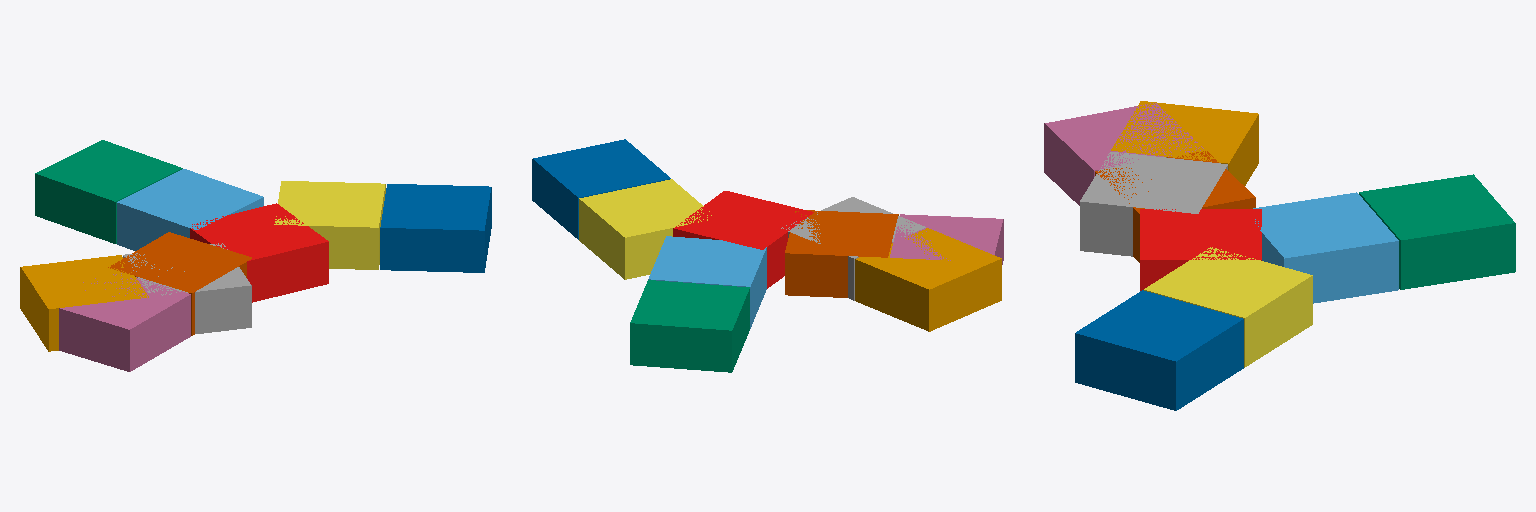
robot.urdf — Model_Models/Model_186.urdf1:
<?xml version='1.0' encoding='UTF-8'?>
<robot name="Model_Models/Model_186.urdf1">
  <link name="base_link">
    <inertial>
      <origin xyz="0.0 0.0 0.0" rpy="0.0 -0.0 0.0"/>
      <mass value="1.0"/>
      <inertia ixx="1.0" ixy="0.0" ixz="0.0" iyy="1.0" iyz="0.0" izz="1.0"/>
    </inertial>
    <visual>
      <geometry>
        <box size="0.67 0.67 0.3 "/>
      </geometry>
      <material name="red"/>
      <origin xyz="0.0 0.0 0.0" rpy="0.0 -0.0 0.0"/>
    </visual>
    <collision>
      <geometry>
        <box size="0.67 0.67 0.3 "/>
      </geometry>
      <origin xyz="0.0 0.0 0.0" rpy="0.0 0.0 0.0"/>
    </collision>
  </link>
  <link name="arm_0_arm1">
    <inertial>
      <origin xyz="0.0 0.34 0.0" rpy="0.0 0.0 0.0"/>
      <mass value="1.0"/>
      <inertia ixx="0.0" ixy="0.0" ixz="0.0" iyy="0.0" iyz="0.0" izz="0.0"/>
    </inertial>
    <visual>
      <geometry>
        <box size="0.67 0.67 0.3 "/>
      </geometry>
      <origin xyz="0.0 0.34 0.0" rpy="0.0 0.0 0.0"/>
    </visual>
    <collision>
      <geometry>
        <box size="0.67 0.67 0.3 "/>
      </geometry>
      <origin xyz="0.0 0.34 0.0" rpy="0.0 0.0 0.0"/>
    </collision>
  </link>
  <link name="arm_0_arm2">
    <inertial>
      <origin xyz="0.0 0.34 0.0" rpy="0.0 0.0 0.0"/>
      <mass value="1.0"/>
      <inertia ixx="0.0" ixy="0.0" ixz="0.0" iyy="0.0" iyz="0.0" izz="0.0"/>
    </inertial>
    <visual>
      <geometry>
        <box size="0.67 0.67 0.3 "/>
      </geometry>
      <origin xyz="0.0 0.34 0.0" rpy="0.0 0.0 0.0"/>
    </visual>
    <collision>
      <geometry>
        <box size="0.67 0.67 0.3 "/>
      </geometry>
      <origin xyz="0.0 0.34 0.0" rpy="0.0 0.0 0.0"/>
    </collision>
  </link>
  <link name="arm_2_arm1">
    <inertial>
      <origin xyz="0.0 0.34 0.0" rpy="0.0 0.0 0.0"/>
      <mass value="1.0"/>
      <inertia ixx="0.0" ixy="0.0" ixz="0.0" iyy="0.0" iyz="0.0" izz="0.0"/>
    </inertial>
    <visual>
      <geometry>
        <box size="0.67 0.67 0.3 "/>
      </geometry>
      <origin xyz="0.0 0.34 0.0" rpy="0.0 0.0 0.0"/>
    </visual>
    <collision>
      <geometry>
        <box size="0.67 0.67 0.3 "/>
      </geometry>
      <origin xyz="0.0 0.34 0.0" rpy="0.0 0.0 0.0"/>
    </collision>
  </link>
  <link name="arm_2_arm2">
    <inertial>
      <origin xyz="0.0 0.34 0.0" rpy="0.0 0.0 0.0"/>
      <mass value="1.0"/>
      <inertia ixx="0.0" ixy="0.0" ixz="0.0" iyy="0.0" iyz="0.0" izz="0.0"/>
    </inertial>
    <visual>
      <geometry>
        <box size="0.67 0.67 0.3 "/>
      </geometry>
      <origin xyz="0.0 0.34 0.0" rpy="0.0 0.0 0.0"/>
    </visual>
    <collision>
      <geometry>
        <box size="0.67 0.67 0.3 "/>
      </geometry>
      <origin xyz="0.0 0.34 0.0" rpy="0.0 0.0 0.0"/>
    </collision>
  </link>
  <link name="arm_3_arm1">
    <inertial>
      <origin xyz="0.0 0.34 0.0" rpy="0.0 0.0 0.0"/>
      <mass value="1.0"/>
      <inertia ixx="0.0" ixy="0.0" ixz="0.0" iyy="0.0" iyz="0.0" izz="0.0"/>
    </inertial>
    <visual>
      <geometry>
        <box size="0.67 0.67 0.3 "/>
      </geometry>
      <origin xyz="0.0 0.34 0.0" rpy="0.0 0.0 0.0"/>
    </visual>
    <collision>
      <geometry>
        <box size="0.67 0.67 0.3 "/>
      </geometry>
      <origin xyz="0.0 0.34 0.0" rpy="0.0 0.0 0.0"/>
    </collision>
  </link>
  <link name="arm_3_arm2">
    <inertial>
      <origin xyz="0.0 0.34 0.0" rpy="0.0 0.0 0.0"/>
      <mass value="1.0"/>
      <inertia ixx="0.0" ixy="0.0" ixz="0.0" iyy="0.0" iyz="0.0" izz="0.0"/>
    </inertial>
    <visual>
      <geometry>
        <box size="0.67 0.67 0.3 "/>
      </geometry>
      <origin xyz="0.0 0.34 0.0" rpy="0.0 0.0 0.0"/>
    </visual>
    <collision>
      <geometry>
        <box size="0.67 0.67 0.3 "/>
      </geometry>
      <origin xyz="0.0 0.34 0.0" rpy="0.0 0.0 0.0"/>
    </collision>
  </link>
  <link name="arm_Permutation_1_arm1">
    <inertial>
      <origin xyz="0.0 0.34 0.0" rpy="0.0 0.0 0.0"/>
      <mass value="1.0"/>
      <inertia ixx="0.0" ixy="0.0" ixz="0.0" iyy="0.0" iyz="0.0" izz="0.0"/>
    </inertial>
    <visual>
      <geometry>
        <box size="0.67 0.67 0.3 "/>
      </geometry>
      <origin xyz="0.0 0.34 0.0" rpy="0.0 0.0 0.0"/>
    </visual>
    <collision>
      <geometry>
        <box size="0.67 0.67 0.3 "/>
      </geometry>
      <origin xyz="0.0 0.34 0.0" rpy="0.0 0.0 0.0"/>
    </collision>
  </link>
  <link name="arm_Permutation_1_arm2">
    <inertial>
      <origin xyz="0.0 0.34 0.0" rpy="0.0 0.0 0.0"/>
      <mass value="1.0"/>
      <inertia ixx="0.0" ixy="0.0" ixz="0.0" iyy="0.0" iyz="0.0" izz="0.0"/>
    </inertial>
    <visual>
      <geometry>
        <box size="0.67 0.67 0.3 "/>
      </geometry>
      <origin xyz="0.0 0.34 0.0" rpy="0.0 0.0 0.0"/>
    </visual>
    <collision>
      <geometry>
        <box size="0.67 0.67 0.3 "/>
      </geometry>
      <origin xyz="0.0 0.34 0.0" rpy="0.0 0.0 0.0"/>
    </collision>
  </link>
  <joint name="arm_0_jointBase" type="fixed">
    <limit effort="1.57" velocity="1.57" lower="-1.57" upper="1.57"/>
    <parent link="base_link"/>
    <child link="arm_0_arm1"/>
    <axis xyz="1. 0. 0."/>
    <origin xyz="0.0 0.34 0.0" rpy="0.0 0.0 0.35"/>
  </joint>
  <joint name="arm_0_joint1" type="revolute">
    <limit effort="1.57" velocity="1.57" lower="-1.57" upper="1.57"/>
    <parent link="arm_0_arm1"/>
    <child link="arm_0_arm2"/>
    <axis xyz="1. 0. 0."/>
    <origin xyz="0.0 0.68 0.0" rpy="0.0 0.0 0.0"/>
  </joint>
  <joint name="arm_2_jointBase" type="fixed">
    <limit effort="1.57" velocity="1.57" lower="-1.57" upper="1.57"/>
    <parent link="base_link"/>
    <child link="arm_2_arm1"/>
    <axis xyz="1. 0. 0."/>
    <origin xyz="0.34 0.34 0.0" rpy="0.0 0.0 -2.16"/>
  </joint>
  <joint name="arm_2_joint1" type="revolute">
    <limit effort="1.57" velocity="1.57" lower="-1.57" upper="1.57"/>
    <parent link="arm_2_arm1"/>
    <child link="arm_2_arm2"/>
    <axis xyz="1. 0. 0."/>
    <origin xyz="0.0 0.68 0.0" rpy="0.0 0.0 0.0"/>
  </joint>
  <joint name="arm_3_jointBase" type="fixed">
    <limit effort="1.57" velocity="1.57" lower="-1.57" upper="1.57"/>
    <parent link="base_link"/>
    <child link="arm_3_arm1"/>
    <axis xyz="1. 0. 0."/>
    <origin xyz="-0.34 0.0 0.0" rpy="0.0 0.0 1.99"/>
  </joint>
  <joint name="arm_3_joint1" type="revolute">
    <limit effort="1.57" velocity="1.57" lower="-1.57" upper="1.57"/>
    <parent link="arm_3_arm1"/>
    <child link="arm_3_arm2"/>
    <axis xyz="1. 0. 0."/>
    <origin xyz="0.0 0.68 0.0" rpy="0.0 0.0 0.0"/>
  </joint>
  <joint name="arm_Permutation_1_jointBase" type="fixed">
    <limit effort="1.57" velocity="1.57" lower="-1.57" upper="1.57"/>
    <parent link="base_link"/>
    <child link="arm_Permutation_1_arm1"/>
    <axis xyz="1. 0. 0."/>
    <origin xyz="-0.34 -0.34 0.0" rpy="0.0 0.0 1.32"/>
  </joint>
  <joint name="arm_Permutation_1_joint1" type="revolute">
    <limit effort="1.57" velocity="1.57" lower="-1.57" upper="1.57"/>
    <parent link="arm_Permutation_1_arm1"/>
    <child link="arm_Permutation_1_arm2"/>
    <axis xyz="1. 0. 0."/>
    <origin xyz="0.0 0.68 0.0" rpy="0.0 0.0 0.0"/>
  </joint>
  <material name="red">
    <color rgba="0.969 0.129 0.122 1.   "/>
  </material>
</robot>

--- Facts derived from the render (not from the file) ---
The picture shows the robot from 3 angles, left to right: view 1: azimuth 30°, elevation 25°; view 2: azimuth 150°, elevation 25°; view 3: azimuth 270°, elevation 25°; orthographic projection.
Robot: Model_Models/Model_186.urdf1 — 9 links, 8 joints (4 revolute, 4 fixed); root link base_link; default pose: all joints at 0.
Visible links, largest first — view 1: arm_2_arm2, arm_0_arm2, arm_3_arm2, base_link, arm_2_arm1, arm_0_arm1, arm_Permutation_1_arm2, arm_3_arm1, arm_Permutation_1_arm1; view 2: arm_Permutation_1_arm2, arm_0_arm2, arm_2_arm1, arm_3_arm1, arm_2_arm2, base_link, arm_0_arm1, arm_3_arm2, arm_Permutation_1_arm1; view 3: arm_2_arm2, arm_0_arm2, arm_0_arm1, arm_2_arm1, arm_Permutation_1_arm1, base_link, arm_Permutation_1_arm2, arm_3_arm2, arm_3_arm1.
Link boxes in pixels (x1,y1,x2,y2): arm_2_arm2: [380, 184, 491, 272]; arm_0_arm2: [35, 140, 182, 243]; arm_3_arm2: [59, 273, 190, 371]; base_link: [190, 203, 328, 302]; arm_2_arm1: [274, 181, 385, 269]; arm_0_arm1: [117, 169, 263, 250]; arm_Permutation_1_arm2: [20, 255, 148, 351]; arm_3_arm1: [108, 232, 251, 335]; arm_Permutation_1_arm1: [123, 243, 251, 333]; arm_Permutation_1_arm2: [855, 228, 1001, 331]; arm_0_arm2: [630, 280, 749, 372]; arm_2_arm1: [579, 179, 711, 279]; arm_3_arm1: [785, 210, 898, 297]; arm_2_arm2: [532, 139, 670, 239]; base_link: [673, 191, 813, 288]; arm_0_arm1: [648, 236, 766, 328]; arm_3_arm2: [890, 214, 1003, 264]; arm_Permutation_1_arm1: [781, 197, 925, 300]; arm_2_arm2: [1075, 290, 1243, 410]; arm_0_arm2: [1359, 174, 1515, 289]; arm_0_arm1: [1253, 192, 1398, 303]; arm_2_arm1: [1144, 247, 1312, 367]; arm_Permutation_1_arm1: [1080, 152, 1227, 256]; base_link: [1140, 209, 1261, 290]; arm_Permutation_1_arm2: [1111, 101, 1258, 185]; arm_3_arm2: [1044, 103, 1203, 205]; arm_3_arm1: [1095, 151, 1255, 262].
Size in the robot's own frame: 3.39 by 2.59 by 0.3 metres.
Geometry: primitives only (box / cylinder / sphere), no mesh files.